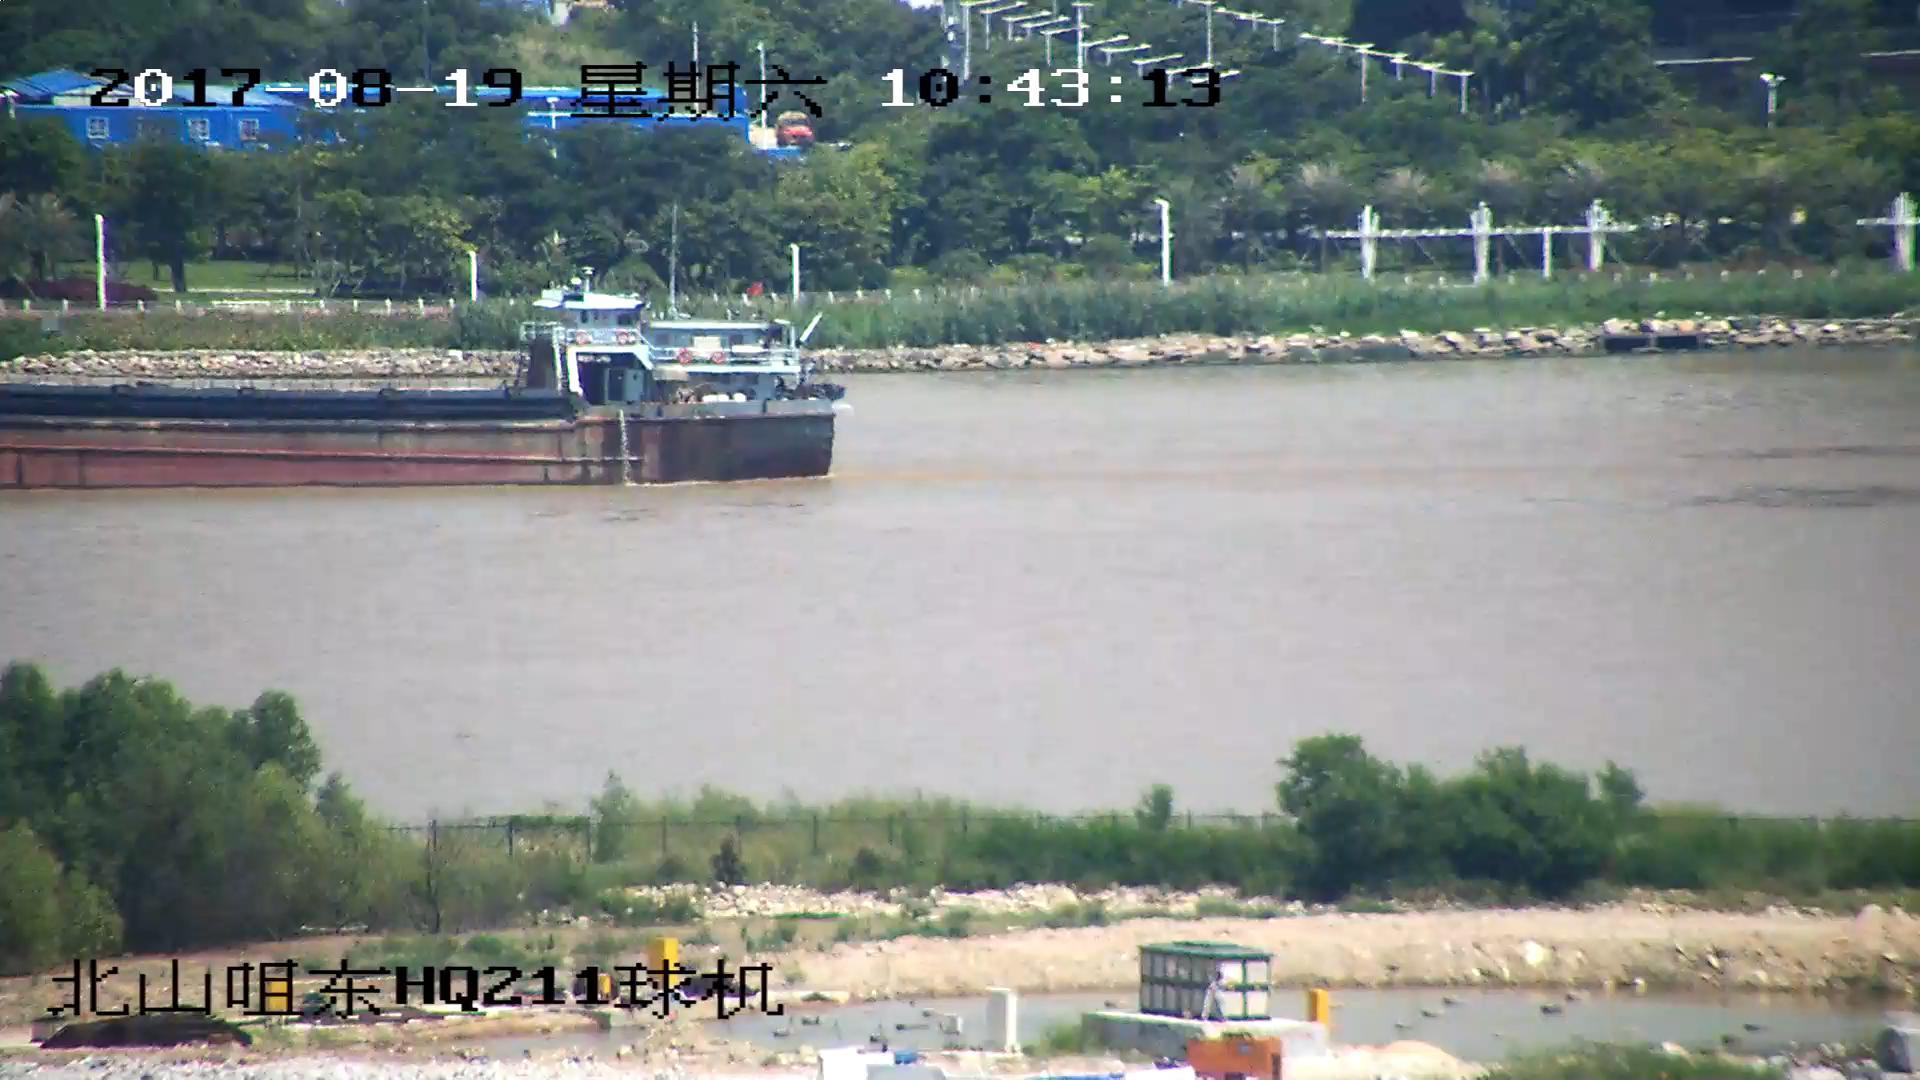Ship: (3, 269, 841, 489)
